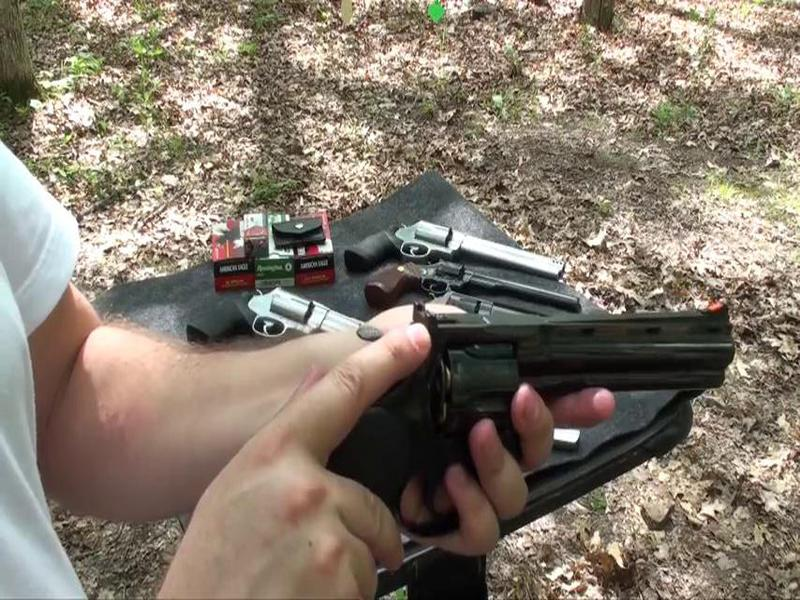Revolver: (298, 301, 723, 532)
